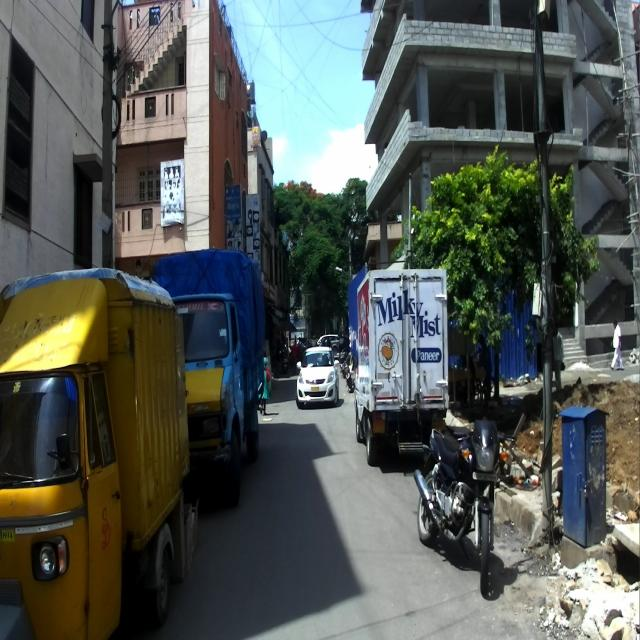autorickshaw: (0, 266, 191, 640)
car: (294, 342, 340, 408)
motorcycle: (412, 419, 516, 596)
truck: (150, 245, 266, 508), (350, 268, 450, 468)
